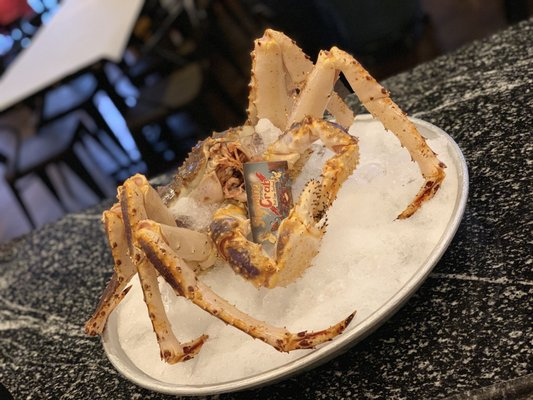curry: (55, 13, 533, 399)
